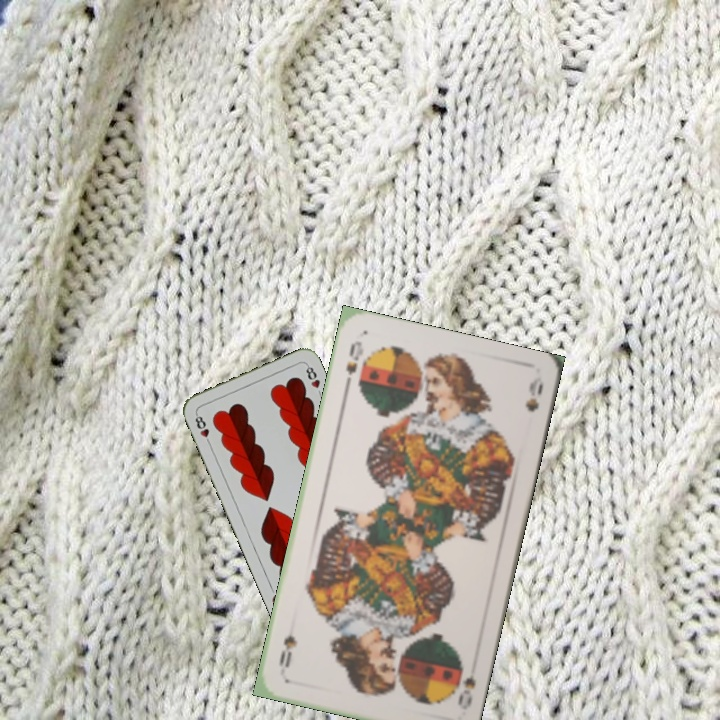H8: (191, 409, 214, 448)
SO: (450, 656, 479, 712), (341, 336, 366, 393)
